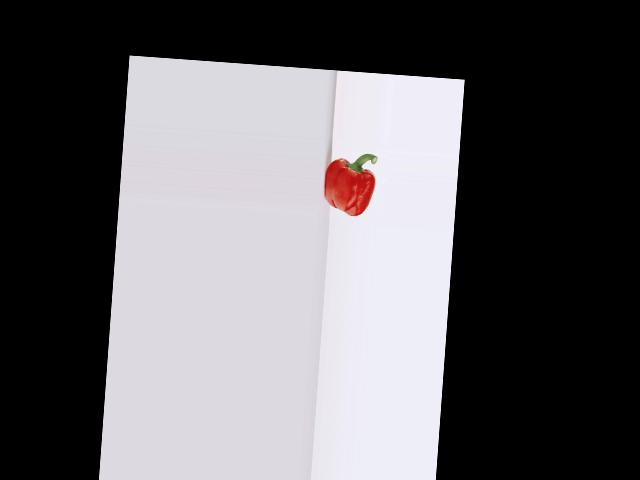bell_pepper: (320, 144, 380, 220)
